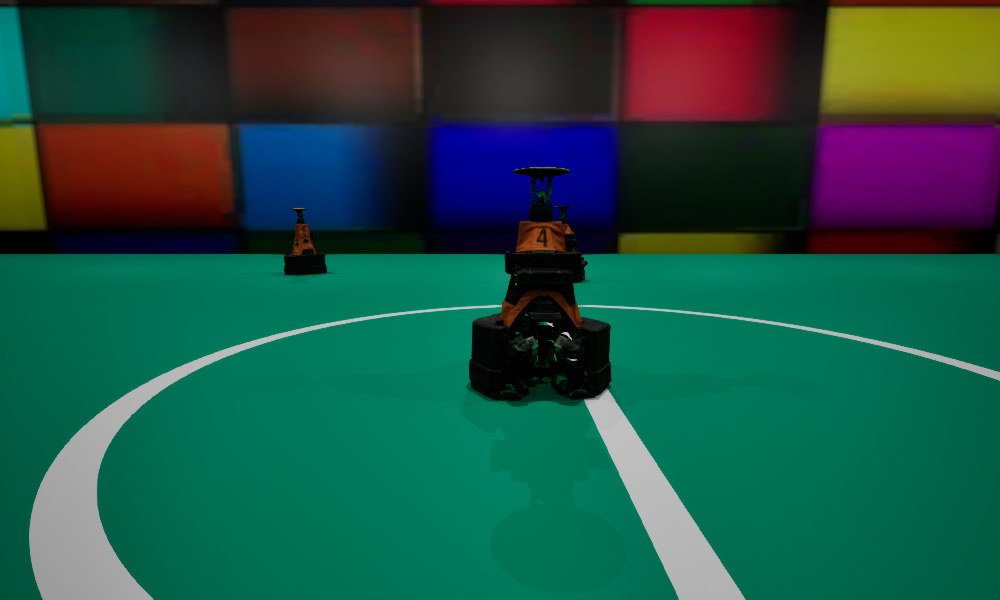0 orange robot TechUnited: (469, 167, 611, 400), (544, 206, 587, 282), (284, 208, 326, 274)
